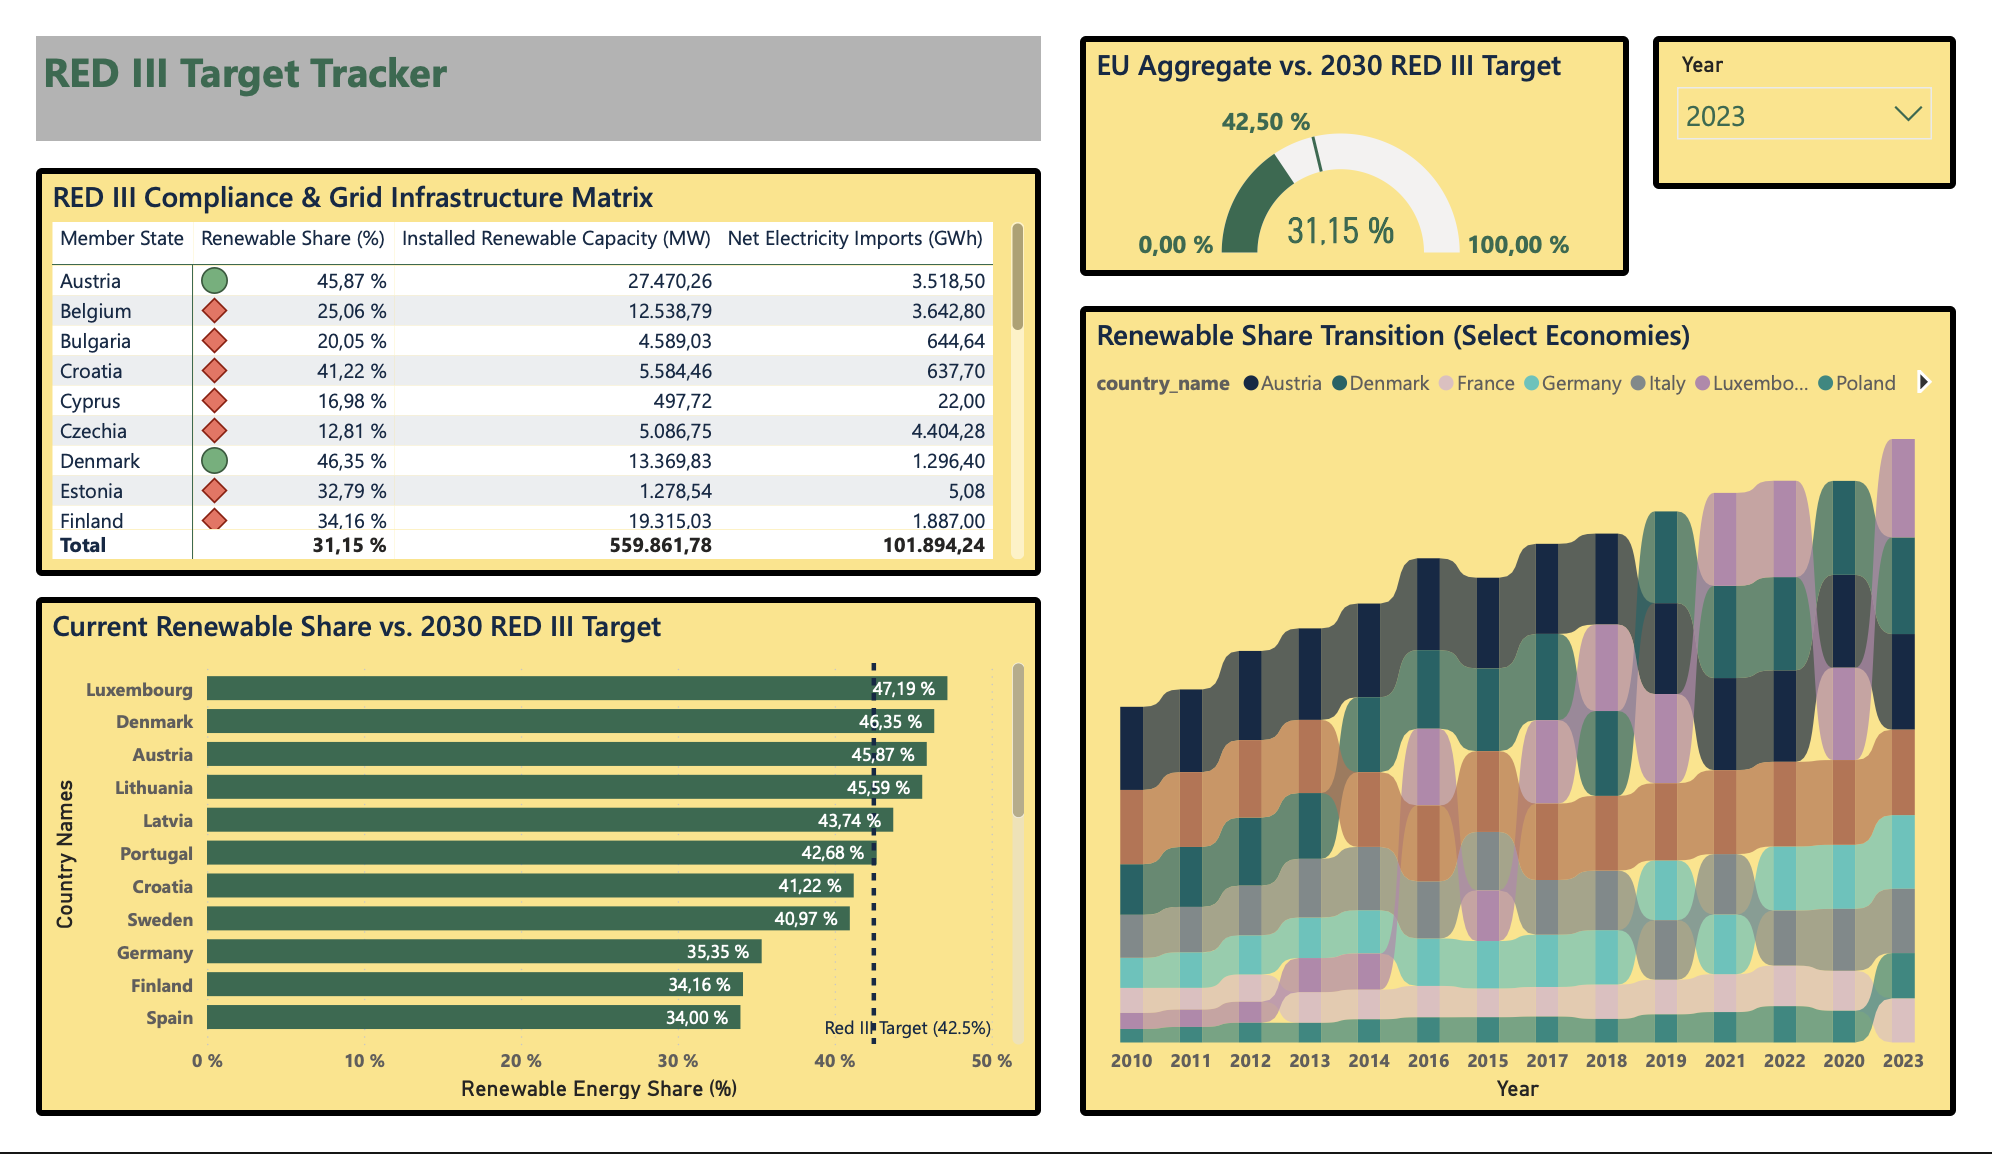

The page's visual inventory and layout, read from the dashboard file:
{"tool":"powerbi","page":{"name":"RED III Tracker","canvas":[1280,720],"ordinal":2},"visuals":[{"type":"textbox","box":[0,0,670,70],"z":0},{"type":"slicer","fields":{"Values":["master_panel_data.year"]},"box":[1078,0,202,102],"z":1000},{"type":"clusteredBarChart","title":"Current Renewable Share vs. 2030 RED III Target","fields":{"Category":["master_panel_data.country_name"],"Y":["master_panel_data.Renewable Share %"]},"box":[0,374,670,346],"z":2000},{"type":"pivotTable","title":"RED III Compliance & Grid Infrastructure Matrix","fields":{"Rows":["master_panel_data.country_name"],"Values":["master_panel_data.Renewable Share %","Sum(master_panel_data.renewable_capacity_mw)","Sum(master_panel_data.net_imports_gwh)"]},"box":[0,88,670,272],"z":3000},{"type":"gauge","fields":{"Y":["master_panel_data.Renewable Share %"]},"box":[696,0,366,160],"z":3001},{"type":"ribbonChart","title":"Renewable Share Transition (Select Economies)","fields":{"Category":["master_panel_data.year"],"Y":["master_panel_data.Renewable Share %"],"Series":["master_panel_data.country_name"]},"box":[696,180,584,540],"z":3002}]}

Visuals, with their boxes in screenshot pixels (x1, y1, x2, y2), scaled from the page's 1280x720 canvas onto the 1992x1154 screenshot:
textbox: box(0, 0, 1043, 112)
slicer - master_panel_data.year: box(1678, 0, 1991, 163)
"Current Renewable Share vs. 2030 RED III Target" clusteredBarChart: box(0, 599, 1043, 1153)
"RED III Compliance & Grid Infrastructure Matrix" pivotTable: box(0, 141, 1043, 577)
gauge - master_panel_data.Renewable Share %: box(1083, 0, 1653, 256)
"Renewable Share Transition (Select Economies)" ribbonChart: box(1083, 288, 1991, 1153)
